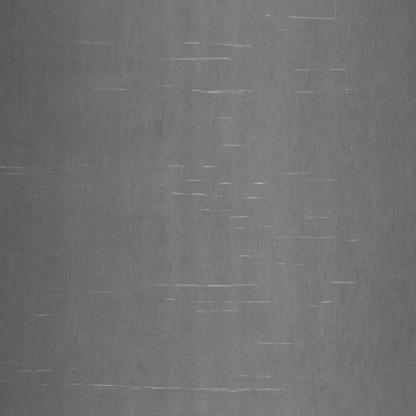waist_folding: (38, 27, 366, 396)
